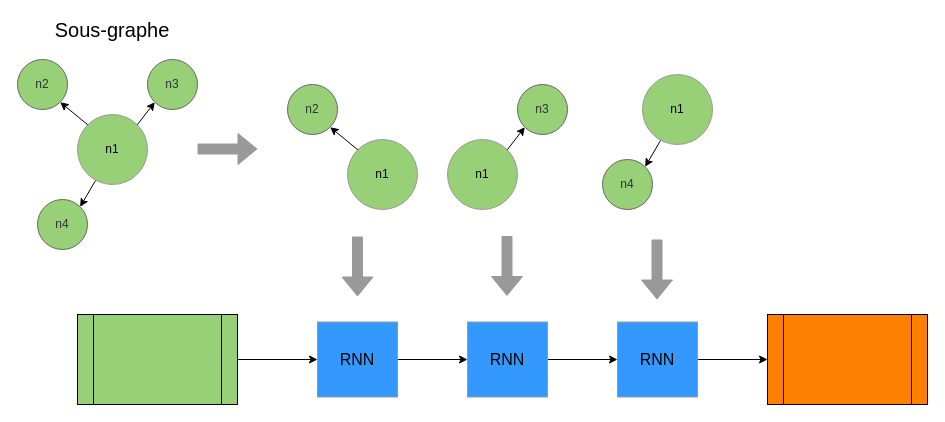
The diagram is 945 pixels wide and 422 high, and some of its shapes have lost their labels. Each missing label, with the box of its shape:
Nouveau vecteur d'état: (766, 314, 928, 404)
Vecteur d'état précédent: (76, 314, 238, 404)
